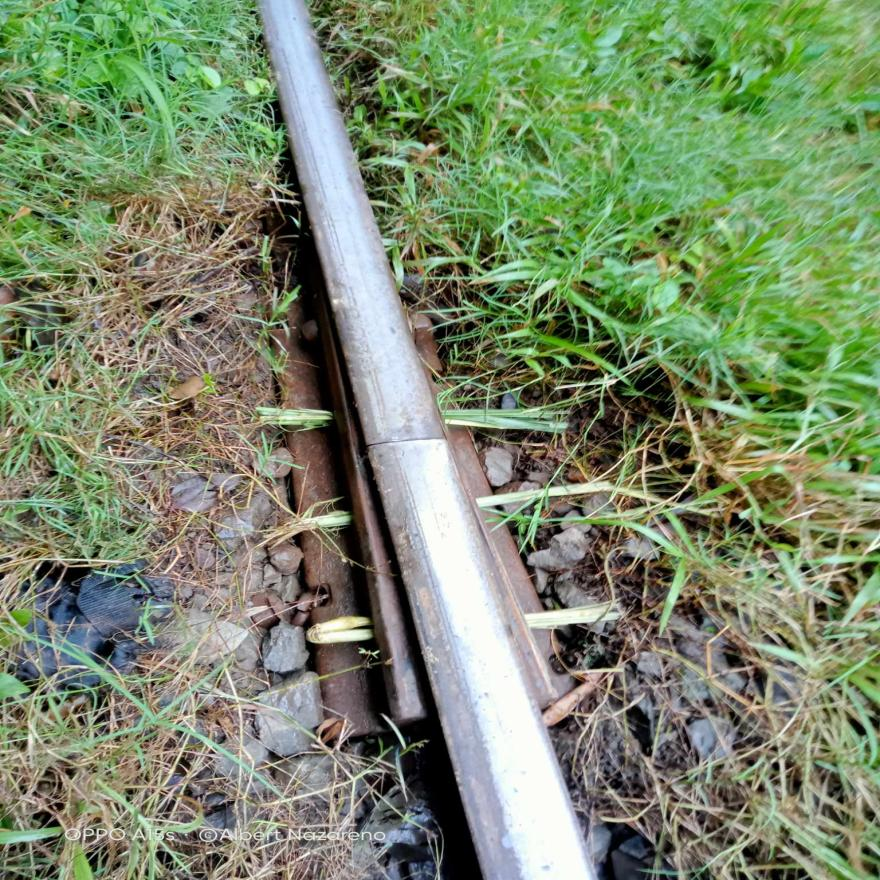railway-gap: (317, 374, 494, 509)
